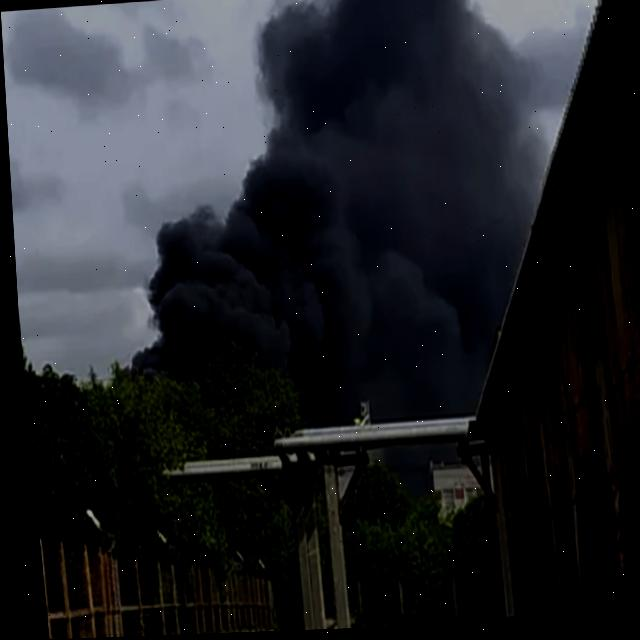Smoke: (91, 0, 561, 409)
